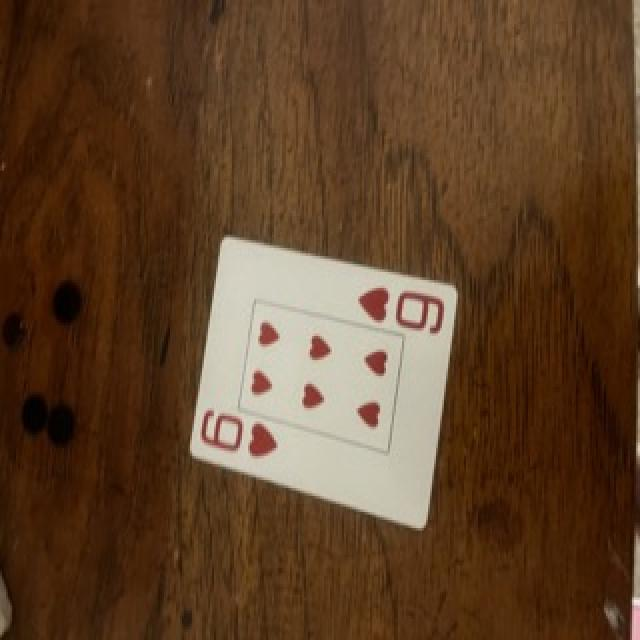6 of hearts: (190, 237, 456, 528)
